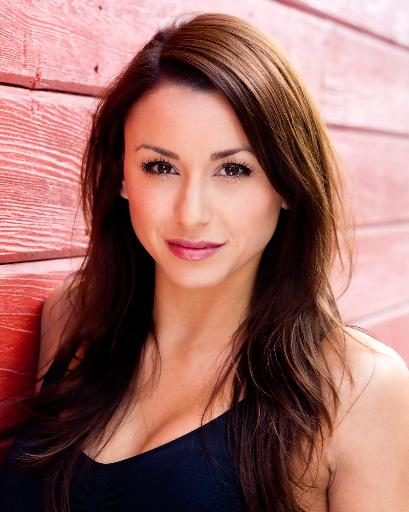left_eye: (214, 161, 255, 184)
left_lip_corner: (219, 238, 232, 252)
right_eye: (142, 158, 181, 181)
right_lip_corner: (164, 235, 175, 249)
